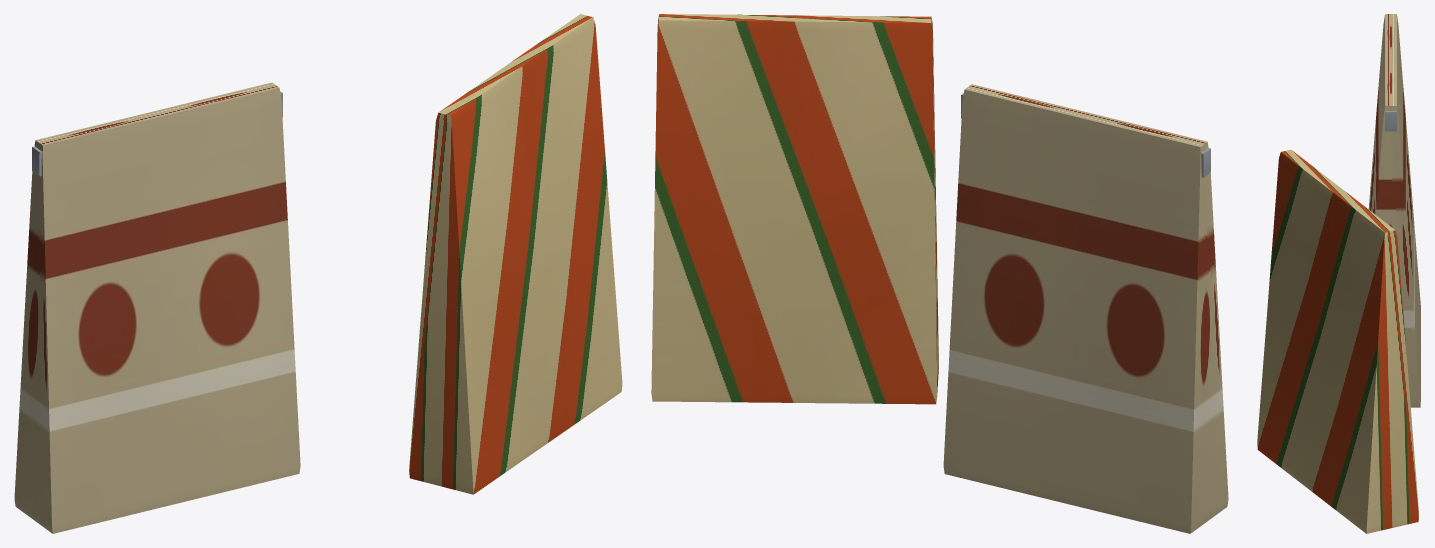
Rendered from ration_pouch_beef_stew.glb.
3 views of the same model, side by side, from view 1: azimuth 30°, elevation 25°; view 2: azimuth 150°, elevation 25°; view 3: azimuth 270°, elevation 25° (orthographic). The views are drawn at different scales.
Visible parts, largest first — view 1: ration_pouch_beef_stew; view 2: ration_pouch_beef_stew; view 3: ration_pouch_beef_stew.
Part boxes in pixels (x1,y1,x2,y2): ration_pouch_beef_stew: [14, 14, 622, 533]; ration_pouch_beef_stew: [651, 14, 1228, 533]; ration_pouch_beef_stew: [1257, 14, 1420, 533].
Bounding box in the file's own units: 0.3002 × 0.188 × 0.0931.
Materials: 3 (2 with a texture image).
